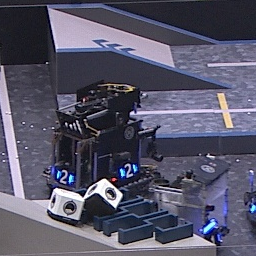Blue: (54, 169, 75, 186), (117, 163, 138, 179)
Robot: (46, 83, 161, 205), (154, 155, 230, 249)
